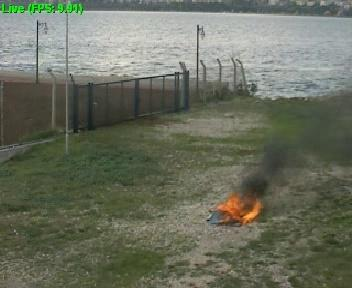fire: (211, 189, 263, 227)
smoke: (251, 152, 281, 182)
